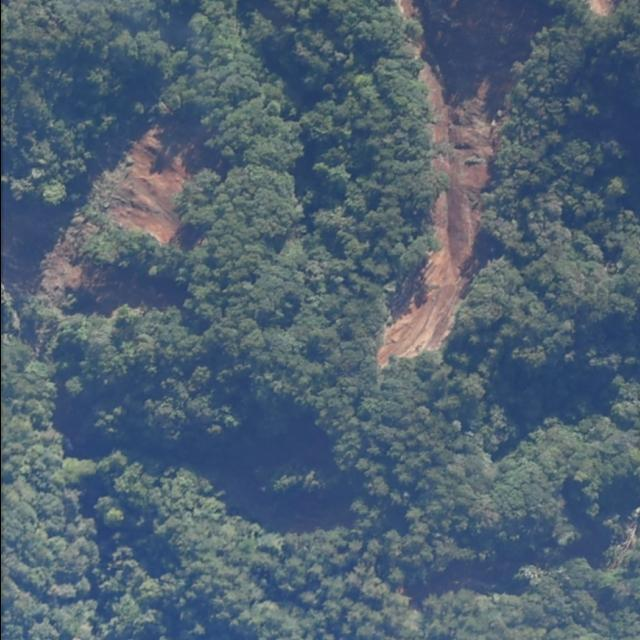landslide: (376, 0, 555, 366), (107, 127, 190, 244)
